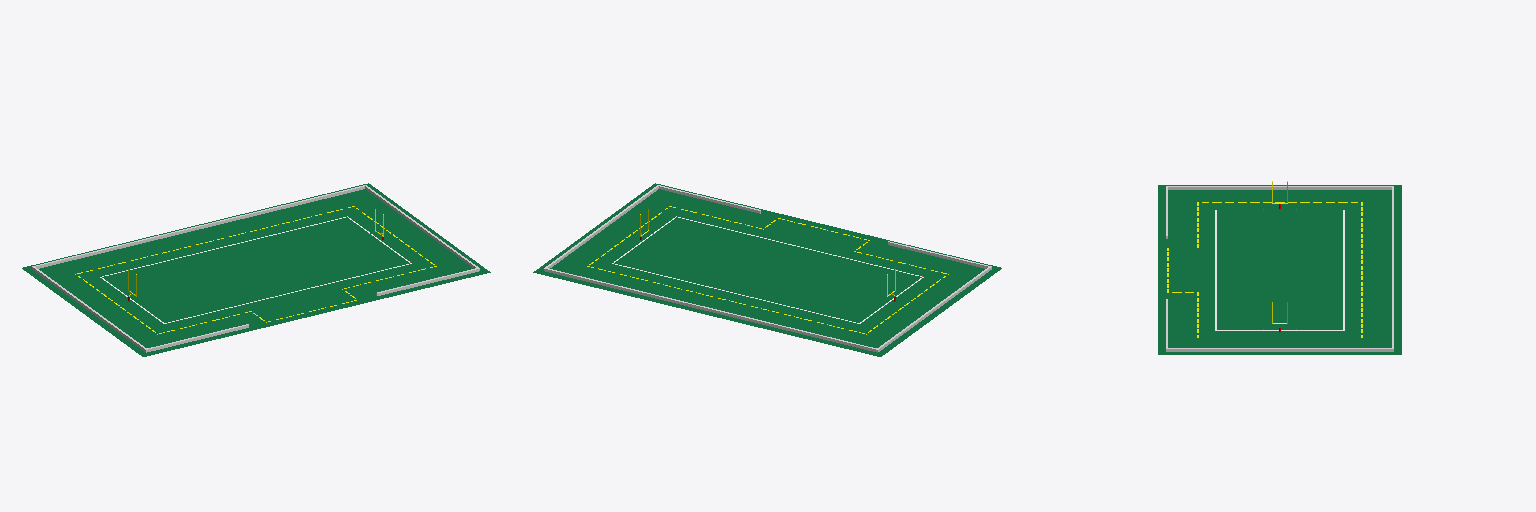
Rendered from FootballField.obj.
The picture shows the model from 3 angles: view 1: azimuth 30°, elevation 25°; view 2: azimuth 150°, elevation 25°; view 3: azimuth 270°, elevation 25°; orthographic projection.
Visible parts, largest first — view 1: grass, field, wall, white_line; view 2: grass, field, wall, white_line; view 3: grass, field, wall, white_line, yellow_line.
Boxes of the visible parts, <box> form: grass: <box>22,183,490,356</box>; field: <box>102,217,409,322</box>; wall: <box>32,185,479,352</box>; white_line: <box>100,216,411,323</box>; grass: <box>533,183,1001,356</box>; field: <box>614,217,921,322</box>; wall: <box>544,185,991,352</box>; white_line: <box>612,216,923,323</box>; grass: <box>1158,185,1401,354</box>; field: <box>1217,210,1342,329</box>; wall: <box>1166,186,1393,351</box>; white_line: <box>1215,210,1344,330</box>; yellow_line: <box>1167,202,1362,337</box>.
Size of the model in its own units: 6120 by 480 by 3720.